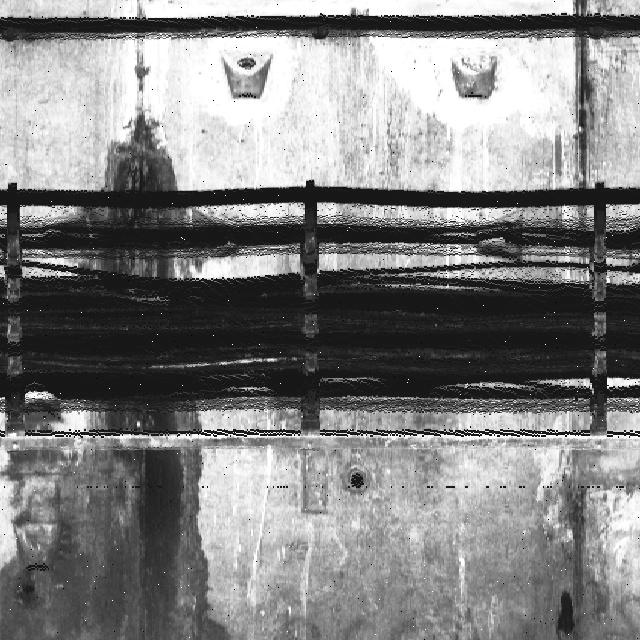leakage: (0, 412, 238, 640), (58, 106, 208, 288), (548, 588, 584, 640)
